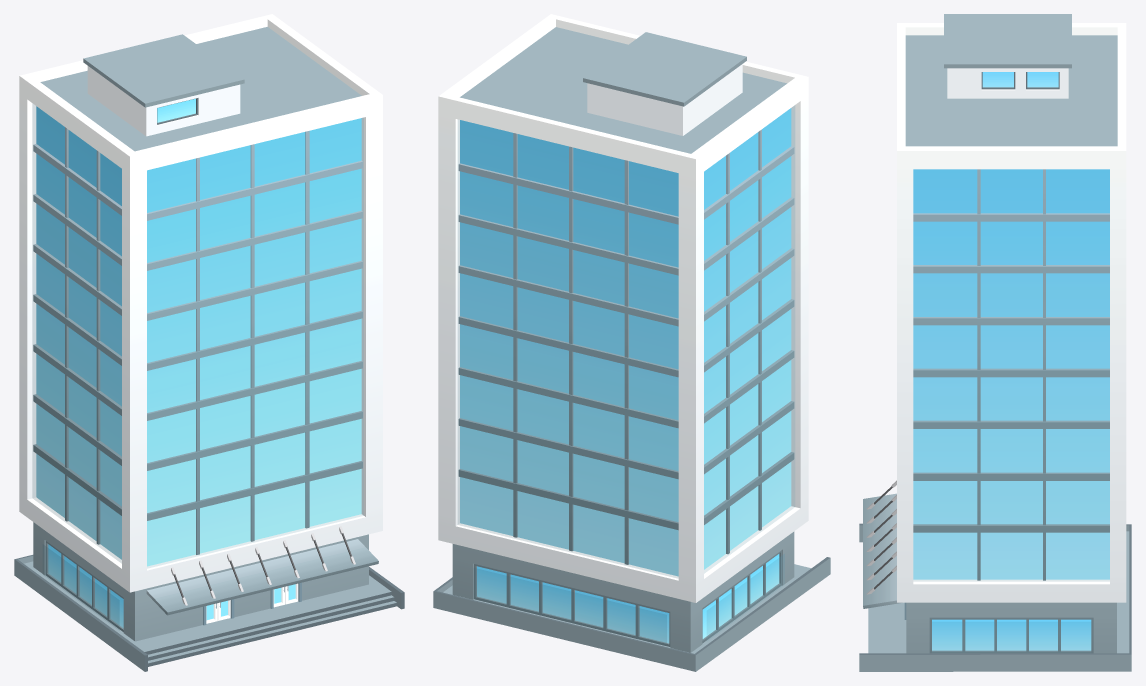
Rendered from city2-building-business-05.glb.
The picture shows the model from 3 angles, left to right: view 1: azimuth 30°, elevation 25°; view 2: azimuth 150°, elevation 25°; view 3: azimuth 270°, elevation 25°; orthographic projection. The views are drawn at different scales.
Visible parts, largest first — view 1: Building_Business_05; view 2: Building_Business_05; view 3: Building_Business_05.
Boxes of the visible parts, x1,y1,x2,y2 form: Building_Business_05: (14,14,404,671); Building_Business_05: (433,14,830,671); Building_Business_05: (859,14,1131,671).
Bounding box in the file's own units: 17.05 × 33.15 × 14.94.
2 materials, 2 textured.
